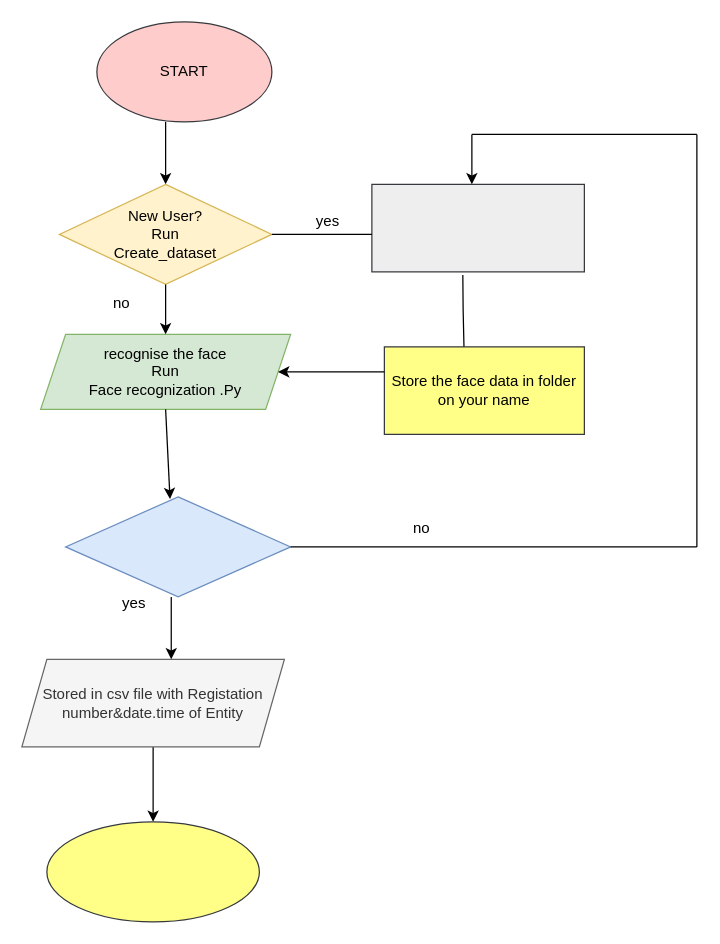
The diagram is 720 pixels wide and 944 high, and some of its shapes have lost their labels. The shapes that lost their labels are listed below. From the top down, each one's centre as x and y in pixels, then its label:
the point at 477,227: Give your Photograph
the point at 177,546: Face Recognized
the point at 152,871: END
